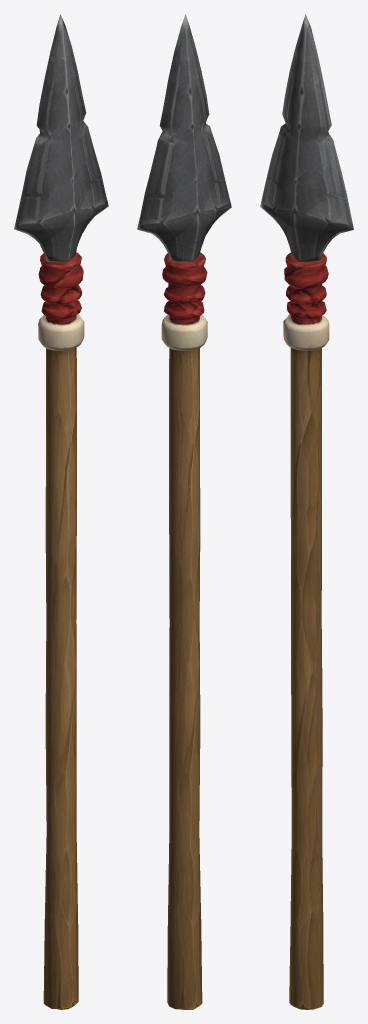
The model's file is jabalina.glb.
3 views of the same model, side by side, from view 1: azimuth 30°, elevation 25°; view 2: azimuth 210°, elevation 25°; view 3: azimuth 330°, elevation 25° (orthographic).
Visible parts, largest first — view 1: 0; view 2: 0; view 3: 0.
Part boxes in pixels (x1,y1,x2,y2): 0: [14, 14, 108, 1009]; 0: [137, 14, 231, 1009]; 0: [260, 14, 353, 1009].
Size of the model in its own units: 0.1396 by 1.4 by 0.0661.
1 material, 1 textured.
